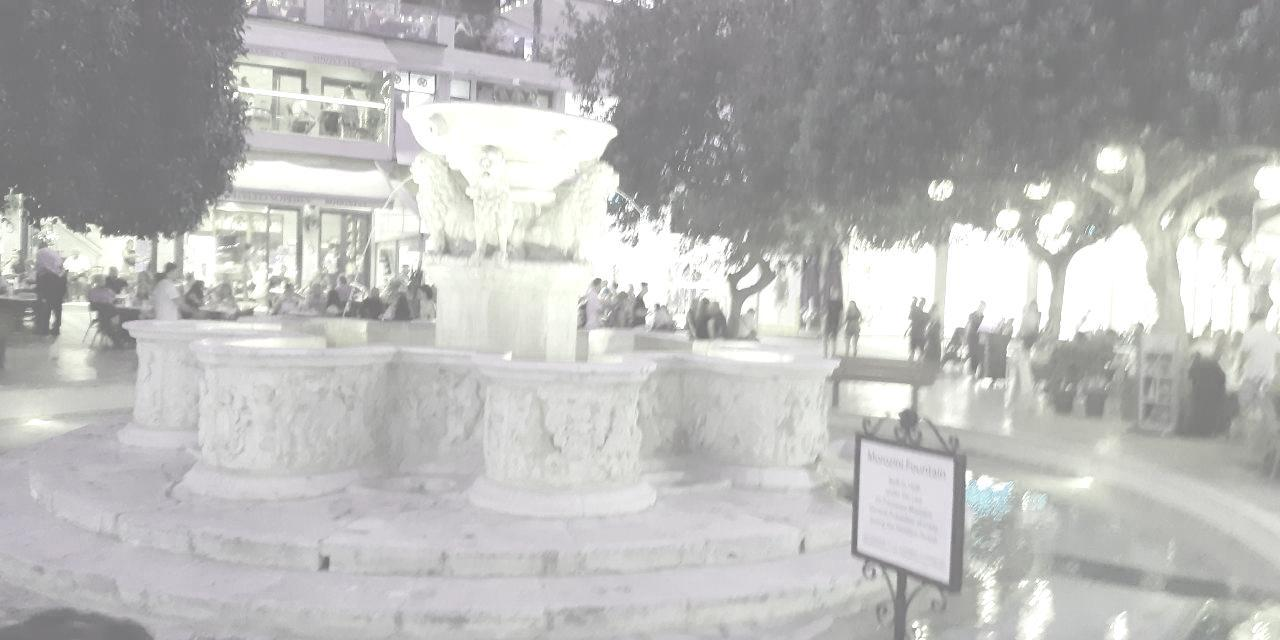Liontaria: (125, 93, 848, 518)
